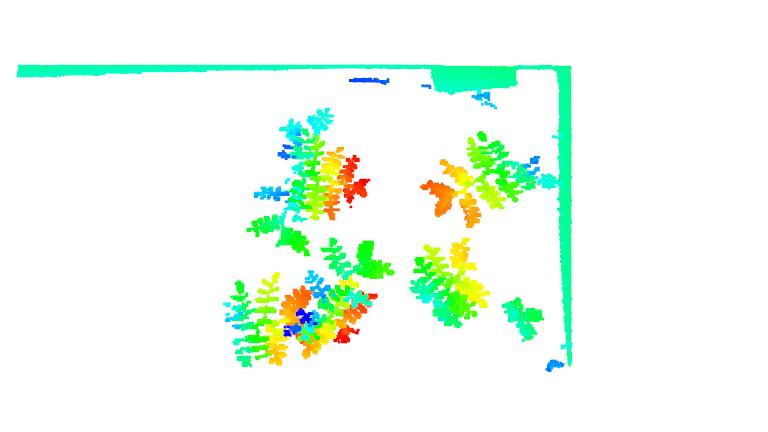chickpea: (238, 104, 372, 257), (416, 129, 555, 229), (297, 239, 395, 360), (224, 269, 311, 372), (399, 237, 492, 328), (498, 298, 547, 343)
